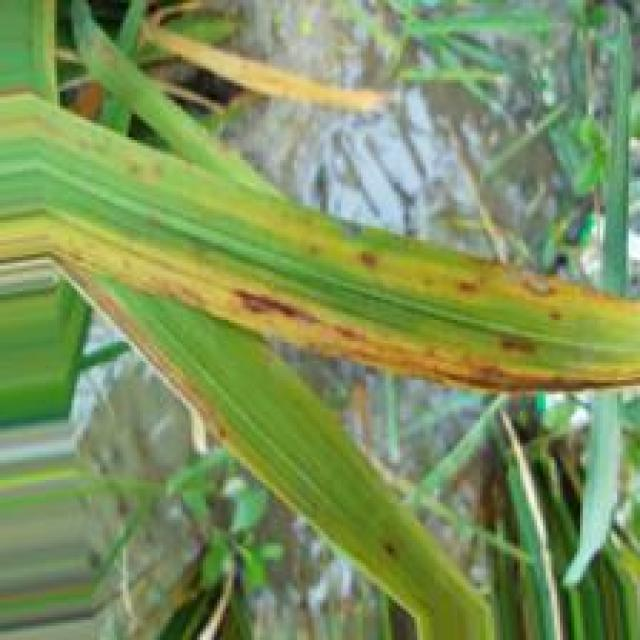Narrow_Brown_Leaf_Spot: (59, 220, 640, 396), (181, 171, 640, 333)
